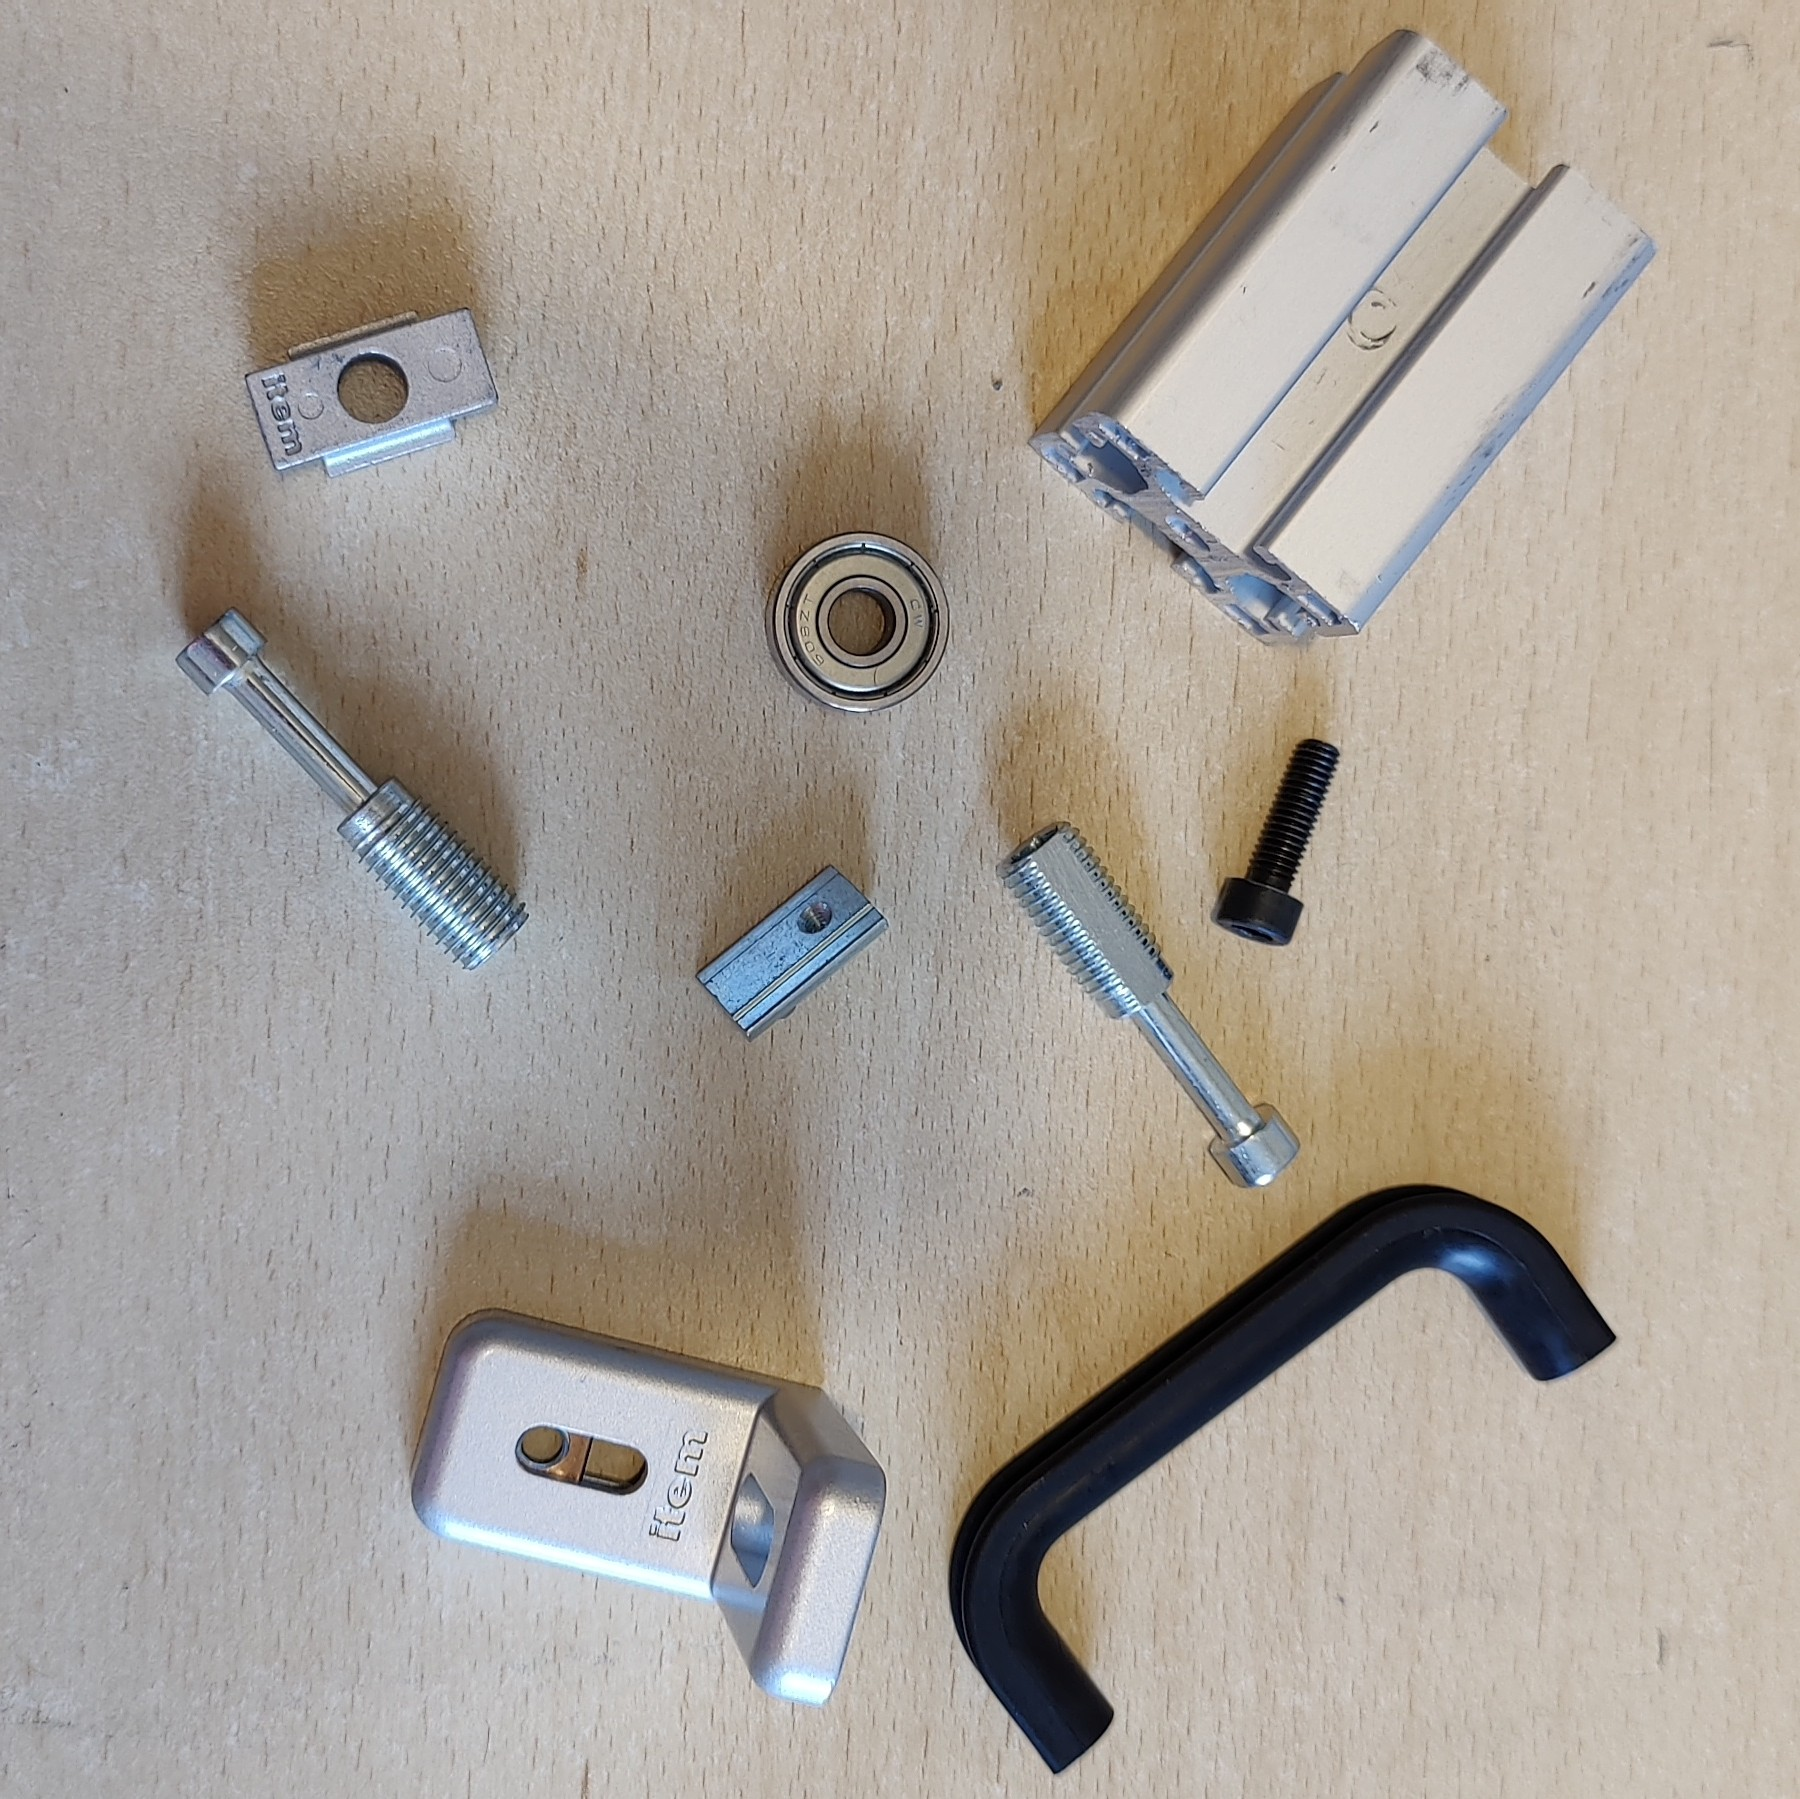Aluminium Extension: (1024, 26, 1658, 652)
Ball Bearing: (762, 526, 954, 718)
Multiwinkel: (408, 1306, 888, 1712)
Pull Handle: (947, 1180, 1620, 1776)
Shoulder Socket Head Cap Screw: (173, 606, 530, 972), (996, 815, 1304, 1189)
Socket Head Cap Screw: (1209, 733, 1344, 947)
T Nut Square: (239, 305, 501, 479)
T Spring Nut: (692, 863, 893, 1041)
